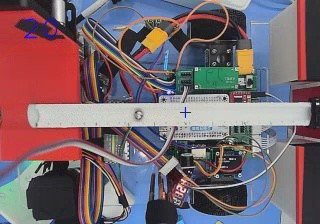ironball: (132, 107, 144, 120)
